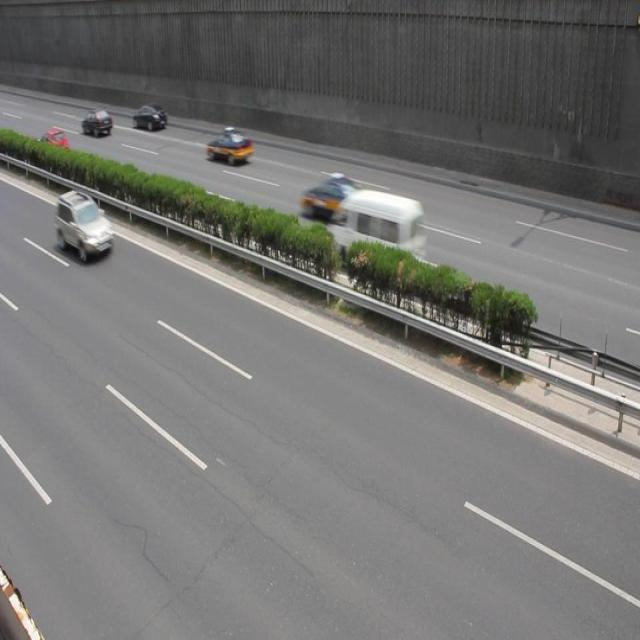car: (56, 188, 116, 264), (300, 174, 375, 228), (206, 125, 253, 164), (37, 124, 71, 160), (81, 106, 114, 138), (133, 104, 167, 133)
truck: (323, 191, 427, 283)
